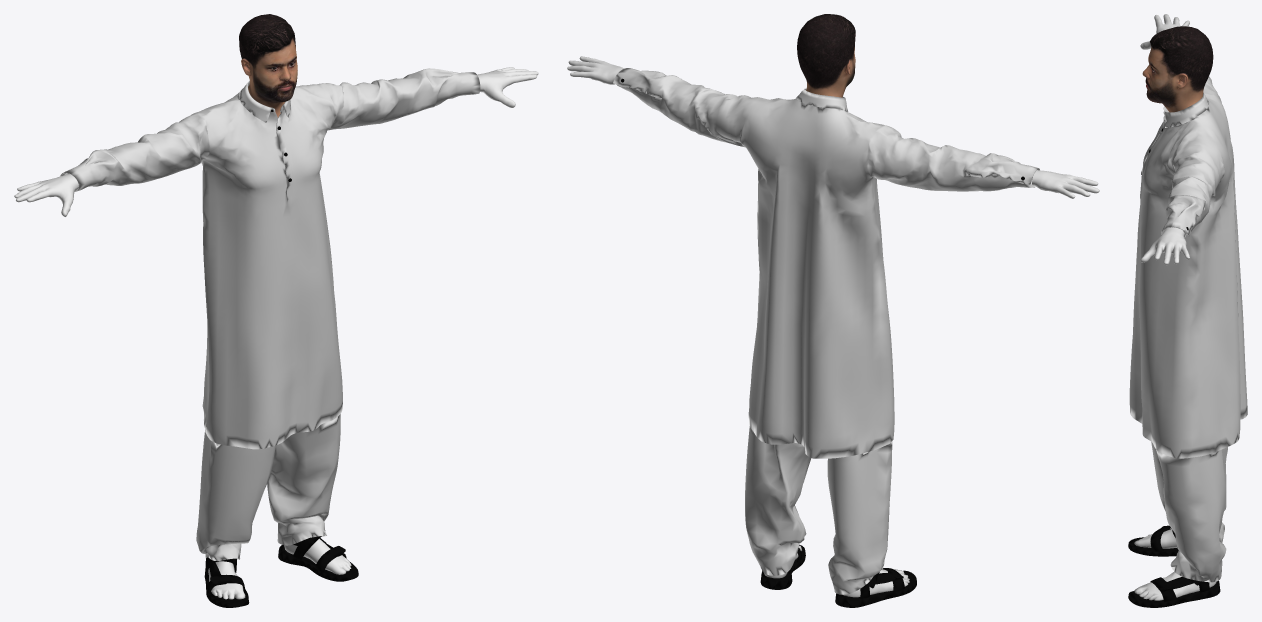
The picture shows the model from 3 angles, left to right: view 1: azimuth 30°, elevation 25°; view 2: azimuth 150°, elevation 25°; view 3: azimuth 270°, elevation 25°; orthographic projection. The views are drawn at different scales.
Parts seen in each view (by area): view 1: man.002; view 2: man.002; view 3: man.002.
Part boxes in pixels (box(x1,y1,x2,y2)): man.002: box(14, 14, 538, 607); man.002: box(567, 14, 1099, 607); man.002: box(1128, 14, 1247, 607).
Bounding box in the file's own units: 2.63 × 2.69 × 0.5336.
Materials: 14 (10 with a texture image).
